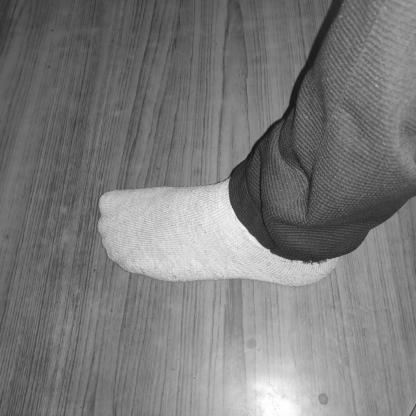ankle: (289, 221, 300, 230)
heel: (298, 276, 305, 282)
left_foot: (98, 177, 340, 288)
pinky: (129, 261, 137, 267)
toe: (107, 200, 116, 206)
